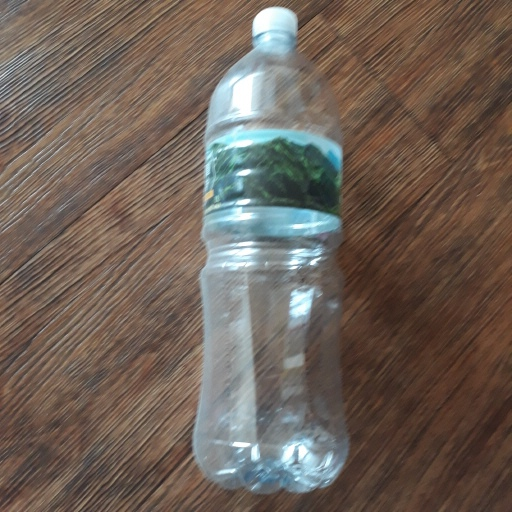Plastic_0: (197, 4, 350, 490)
